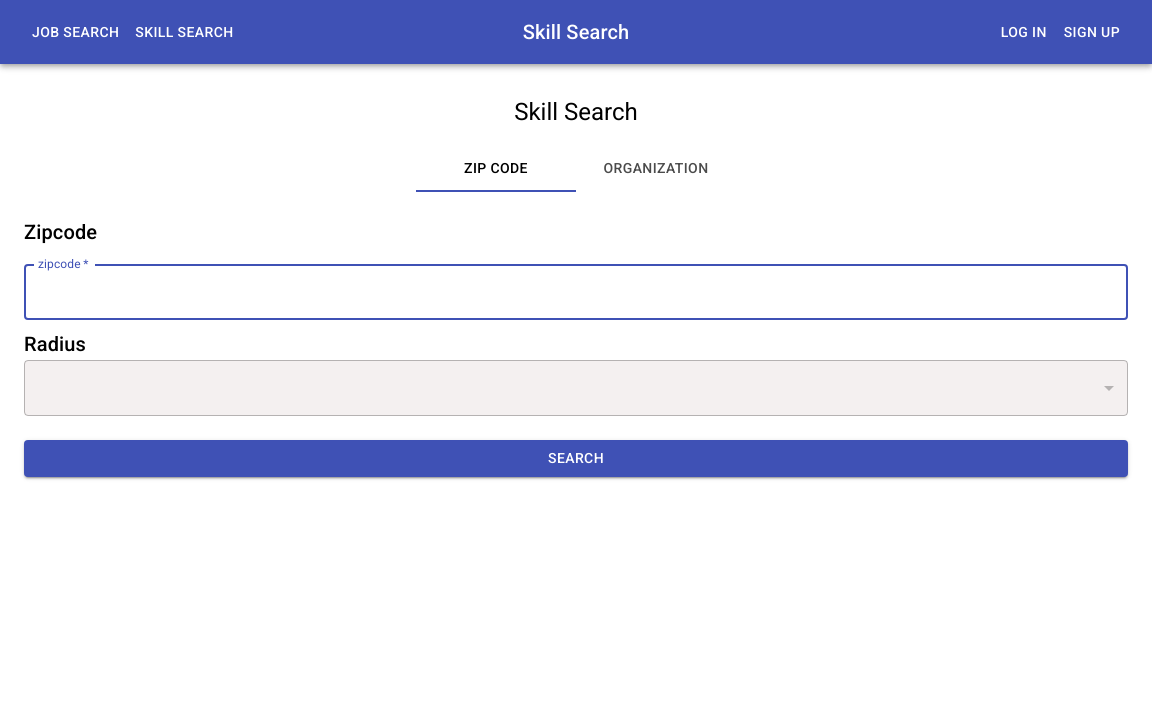
Test case: Skill Search › Skill search by zip code FAILURE
Type "20000" into the field with id "zipcode" at (576, 292), box [24,264,1128,320]
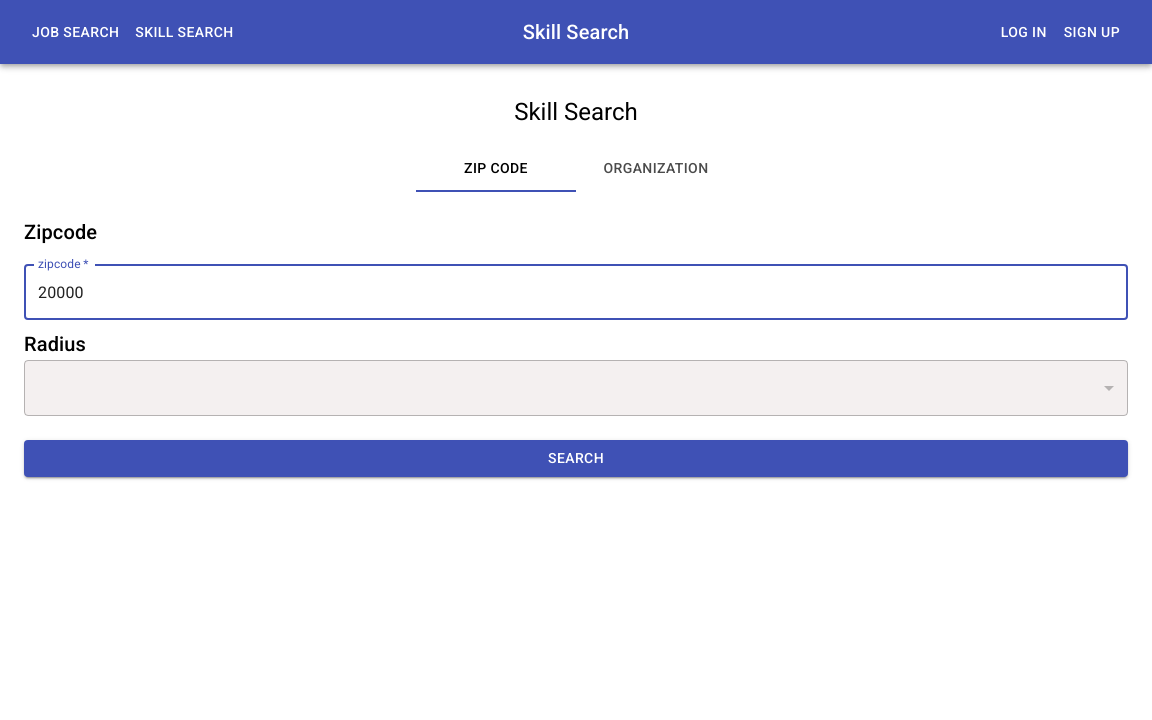
Click the button with id "submit" at (576, 459), box [24,440,1128,477]
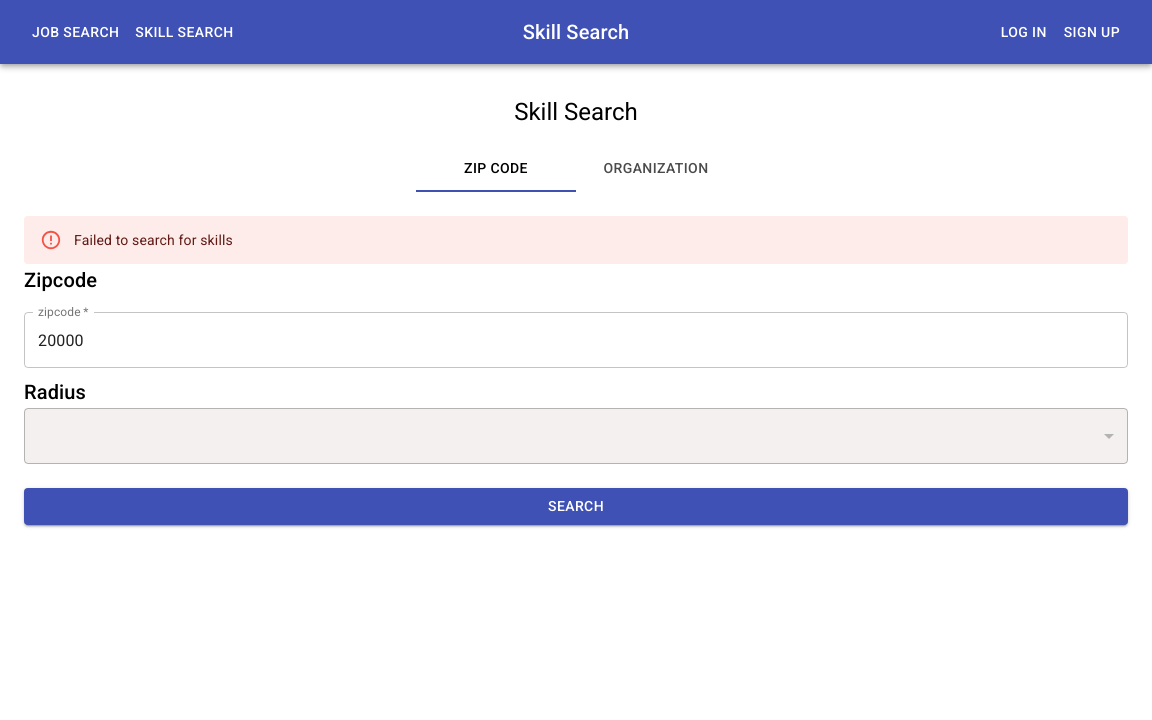
expect the text "Failed to search for skills" is shown: met, box [74,232,233,248]
